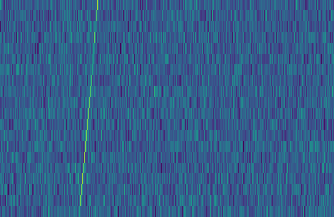signal: (73, 0, 101, 217)
